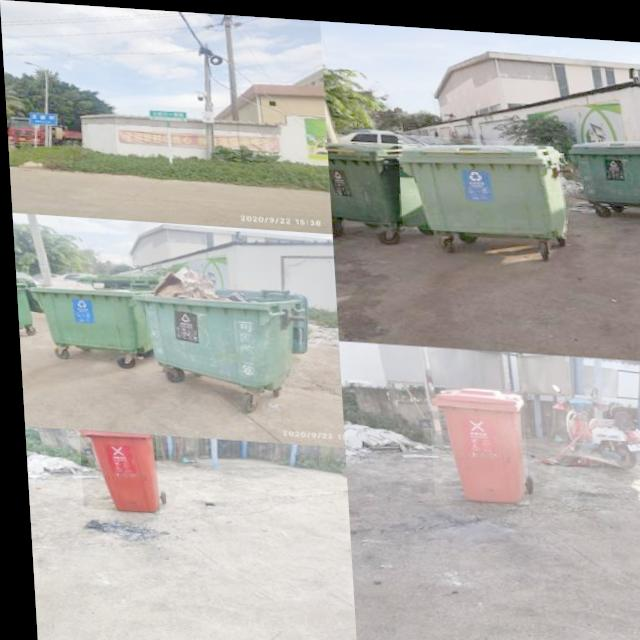garbage_bin: (397, 129, 565, 232), (424, 378, 524, 497), (325, 134, 425, 220), (25, 283, 144, 351), (74, 429, 154, 512), (565, 128, 640, 198)
overflow: (127, 262, 305, 387)
